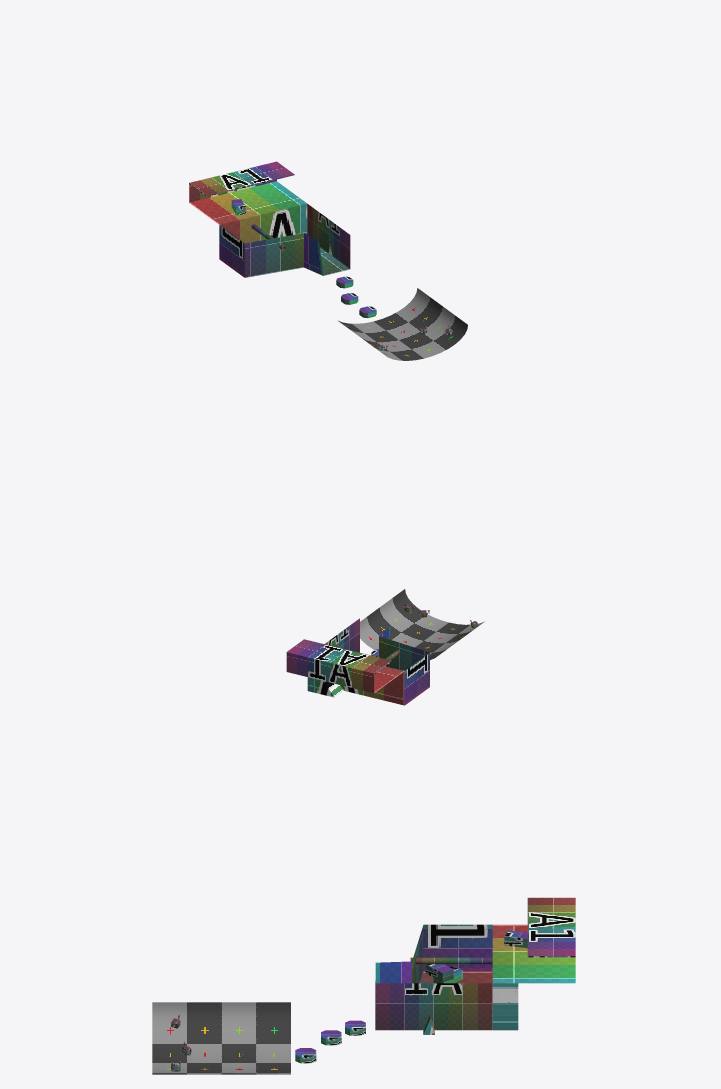
The model's file is warehouse.glb.
3 renders of one model, top to bottom at view 1: azimuth 30°, elevation 25°; view 2: azimuth 150°, elevation 25°; view 3: azimuth 270°, elevation 25°, orthographic. The views are drawn at different scales.
Parts seen in each view (by area): view 1: Cube, Cylinder; view 2: Cube, Cylinder; view 3: Cube, Cylinder, Circle.
Boxes of the visible parts, box(x1,y1,x2,y2) form: Cube: box(189, 161, 350, 277); Cylinder: box(338, 288, 467, 360); Cube: box(286, 618, 429, 705); Cylinder: box(360, 589, 484, 659); Cube: box(375, 897, 575, 1034); Cylinder: box(152, 1002, 290, 1074); Circle: box(410, 957, 492, 964).
Bounding box in the file's own units: 200 × 60.65 × 200.
5 materials, 5 textured.
